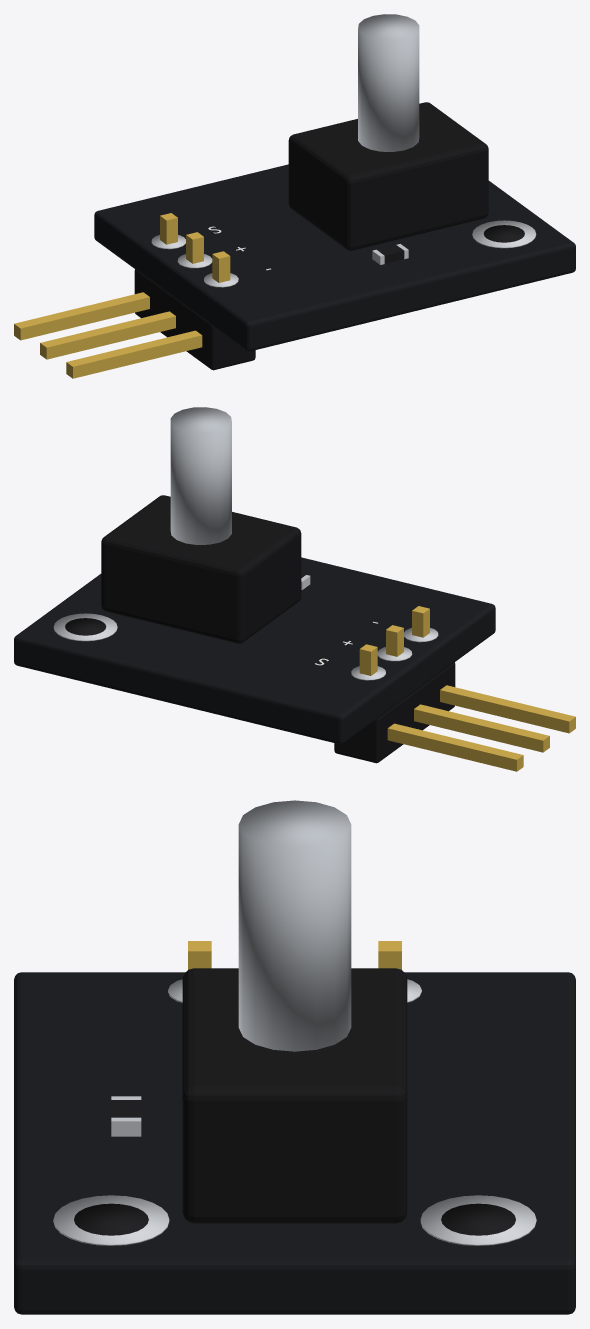
Rendered from tap-module.glb.
The picture shows the model from 3 angles, top to bottom: view 1: azimuth 30°, elevation 25°; view 2: azimuth 150°, elevation 25°; view 3: azimuth 270°, elevation 25°; orthographic projection. The views are drawn at different scales.
Parts seen in each view (by area): view 1: pcb.016, part.058, part.059, header.016, pin_h.055, pin_h.054, pin_h.053, hole_ring.029, hole.029, pin_v.055, pin_v.054, pin_v.053; view 2: pcb.016, part.058, part.059, header.016, pin_h.053, pin_h.054, pin_h.055, hole_ring.028, hole.028, pin_v.053, pin_v.054, pin_v.055; view 3: pcb.016, part.058, part.059, hole_ring.028, hole_ring.029, hole.028, hole.029, pin_v.053, pin_v.055.
Part boxes in pixels (box(x1,y1,x2,y2)): pcb.016: box(94, 164, 575, 351); part.058: box(288, 102, 488, 250); part.059: box(358, 14, 419, 151); header.016: box(134, 269, 255, 370); pin_h.055: box(66, 330, 202, 378); pin_h.054: box(40, 311, 175, 359); pin_h.053: box(14, 292, 149, 340); hole_ring.029: box(472, 220, 536, 248); hole.029: box(483, 225, 524, 242); pin_v.055: box(212, 251, 230, 282); pin_v.054: box(186, 232, 203, 263); pin_v.053: box(160, 213, 177, 244); pcb.016: box(14, 557, 495, 744); part.058: box(101, 495, 301, 643); part.059: box(170, 407, 231, 544); header.016: box(334, 662, 455, 763); pin_h.053: box(387, 723, 523, 771); pin_h.054: box(414, 704, 549, 752); pin_h.055: box(440, 685, 575, 733); hole_ring.028: box(53, 613, 117, 641); hole.028: box(65, 618, 106, 635); pin_v.053: box(359, 644, 377, 675); pin_v.054: box(386, 625, 403, 656); pin_v.055: box(412, 606, 429, 637); pcb.016: box(14, 972, 575, 1314); part.058: box(182, 968, 407, 1223); part.059: box(238, 800, 351, 1051); hole_ring.028: box(420, 1195, 536, 1245); hole_ring.029: box(53, 1195, 169, 1245); hole.028: box(441, 1203, 515, 1235); hole.029: box(74, 1203, 148, 1235); pin_v.053: box(378, 941, 401, 969); pin_v.055: box(188, 941, 211, 969).
Bounding box in the file's own units: 0.0256 × 0.0141 × 0.015.
